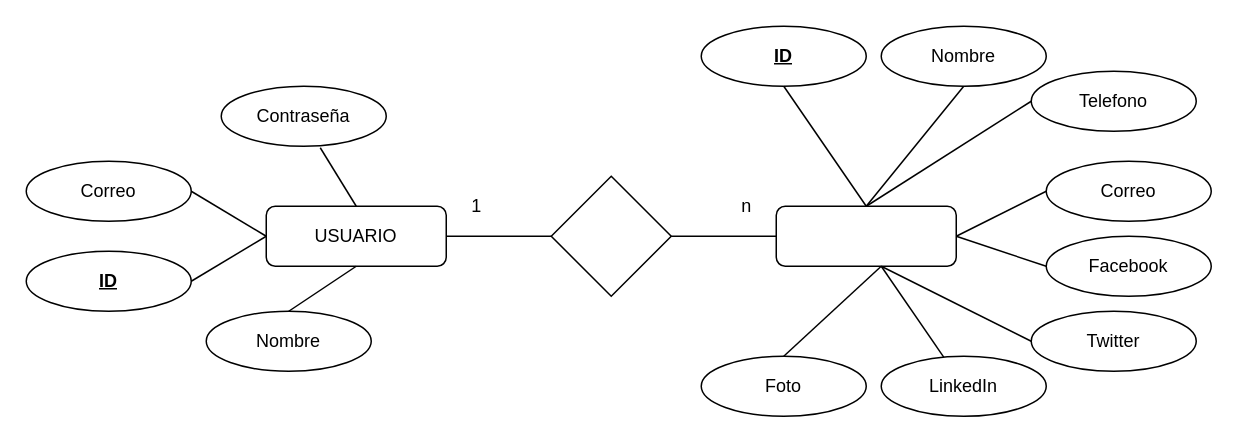
Some shapes in this 1238 by 443 pixel diagram are drawn without their labels. The shapes that lost their labels are listed below. From the top down, each one's box as (x1, y1, x2, y2) in pixels, then its label:
(550, 175, 671, 296): Guarda
(775, 205, 956, 266): CONTACTO
